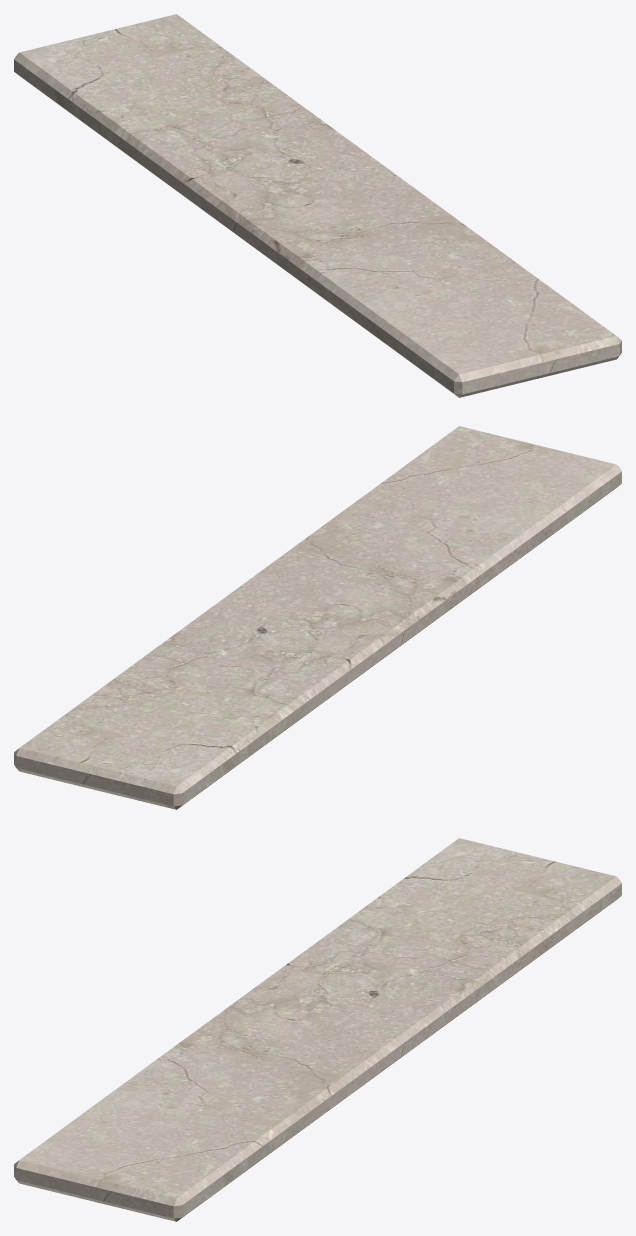
The model's file is pasted__marble_tile_168.fbx.
3 renders of one model, top to bottom at view 1: azimuth 30°, elevation 25°; view 2: azimuth 150°, elevation 25°; view 3: azimuth 330°, elevation 25°, orthographic.
Parts seen in each view (by area): view 1: pasted__marble_tile_168; view 2: pasted__marble_tile_168; view 3: pasted__marble_tile_168.
Part boxes in pixels (x1,y1,x2,y2): pasted__marble_tile_168: (14, 14, 621, 397); pasted__marble_tile_168: (14, 426, 621, 809); pasted__marble_tile_168: (14, 838, 621, 1221).
Bounding box in the file's own units: 50.57 × 232 × 6.75.
